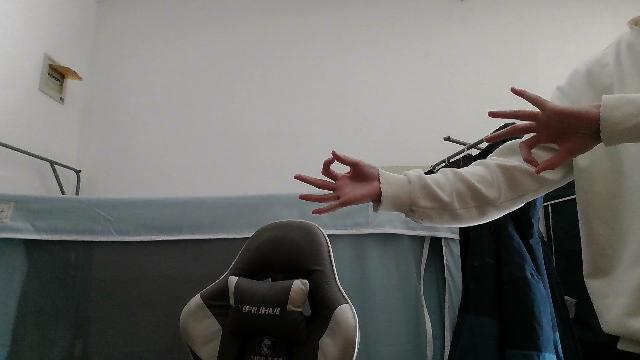ok: (484, 84, 602, 176), (295, 149, 383, 216)
